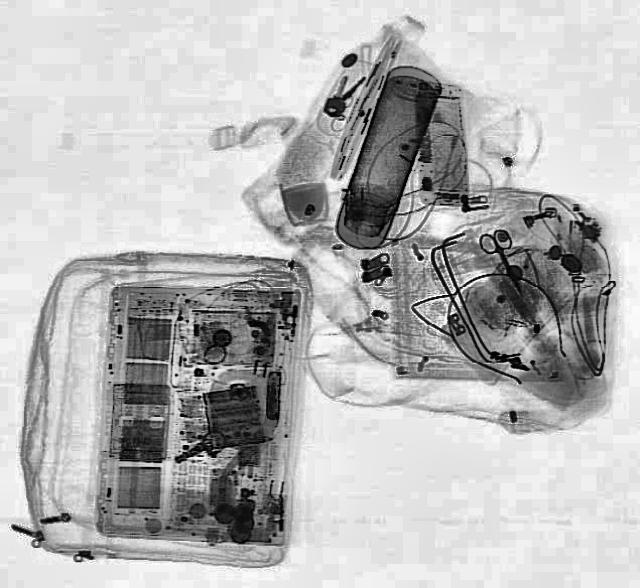Scissors: (473, 226, 535, 296)
